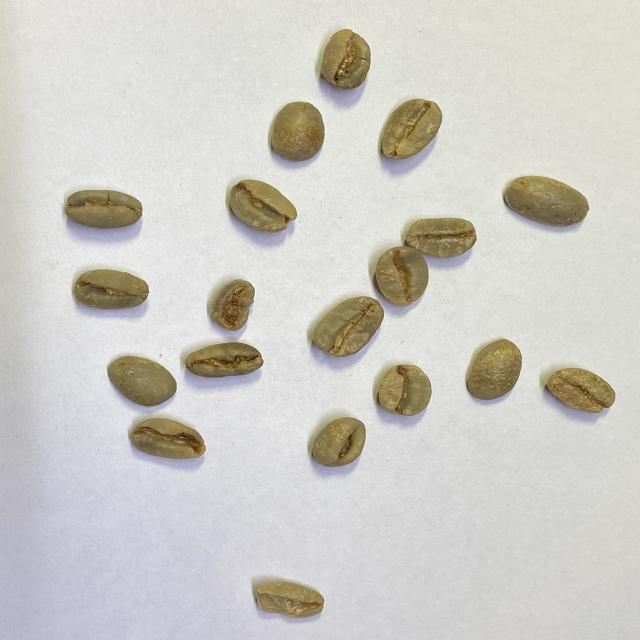bad: (128, 418, 208, 463), (320, 26, 372, 89), (182, 341, 266, 378), (214, 278, 254, 332)
good: (506, 175, 592, 228), (312, 296, 385, 356), (380, 99, 444, 164), (228, 177, 298, 234), (463, 338, 524, 402), (107, 354, 176, 408), (268, 100, 324, 162), (544, 368, 618, 414), (63, 188, 147, 228), (75, 266, 148, 310), (377, 248, 430, 306), (378, 363, 434, 417), (310, 417, 367, 467), (408, 218, 477, 257)
